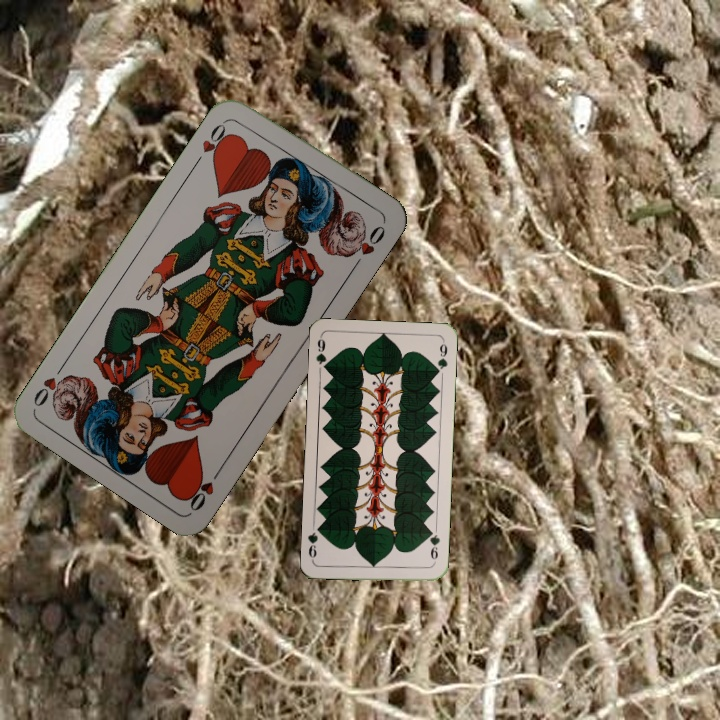G9: (312, 333, 331, 374), (425, 526, 442, 567)
HO: (182, 461, 226, 514), (191, 116, 235, 168)
